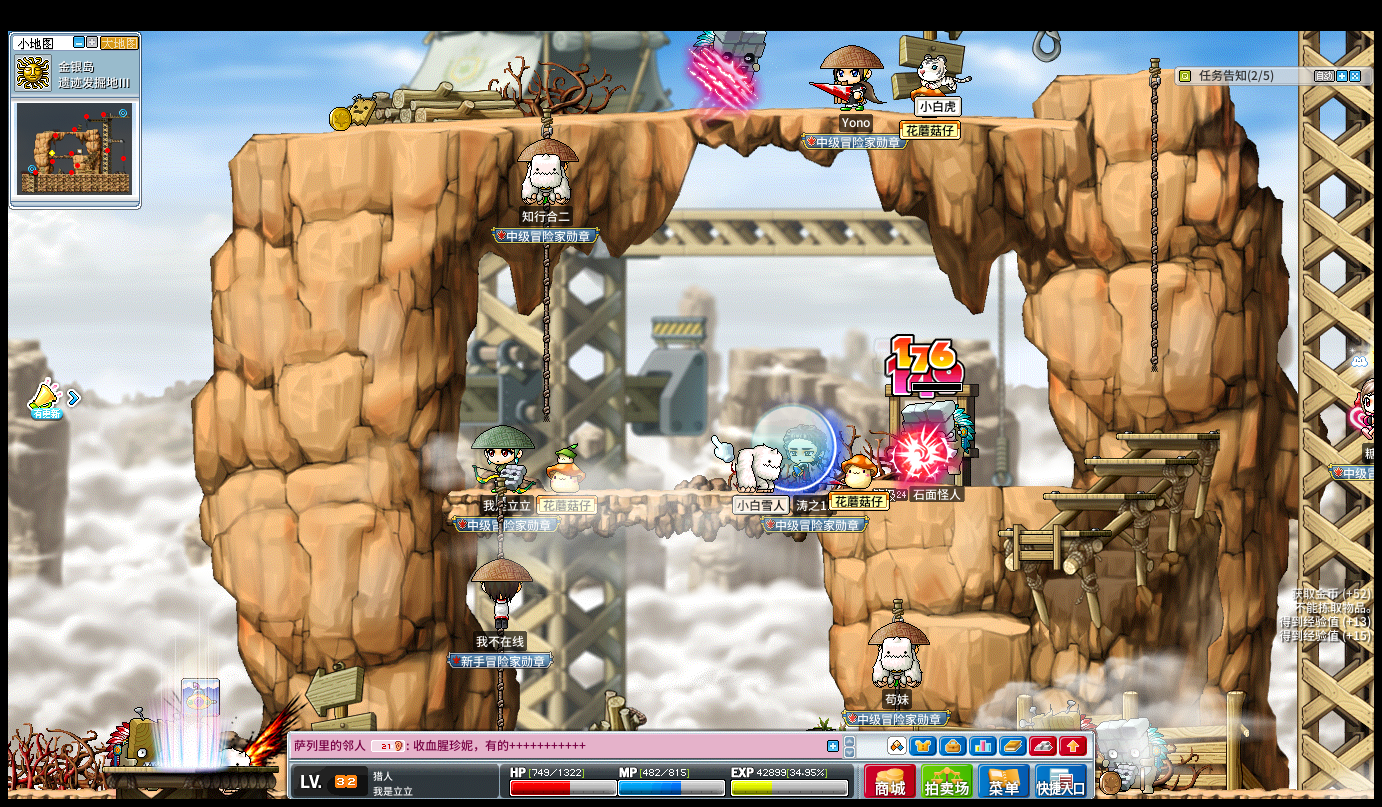floor: (219, 104, 1085, 138), (448, 489, 821, 499), (924, 613, 1029, 634), (906, 481, 1077, 492), (926, 482, 1073, 494), (1052, 67, 1169, 81), (1114, 429, 1221, 441), (1077, 455, 1194, 464), (1040, 492, 1154, 500), (996, 528, 1107, 536)
monster: (689, 25, 765, 109), (901, 400, 976, 482), (1096, 716, 1169, 791)
rope: (1146, 55, 1160, 377), (540, 133, 550, 419), (540, 250, 550, 421), (491, 488, 503, 559), (493, 668, 504, 723)
